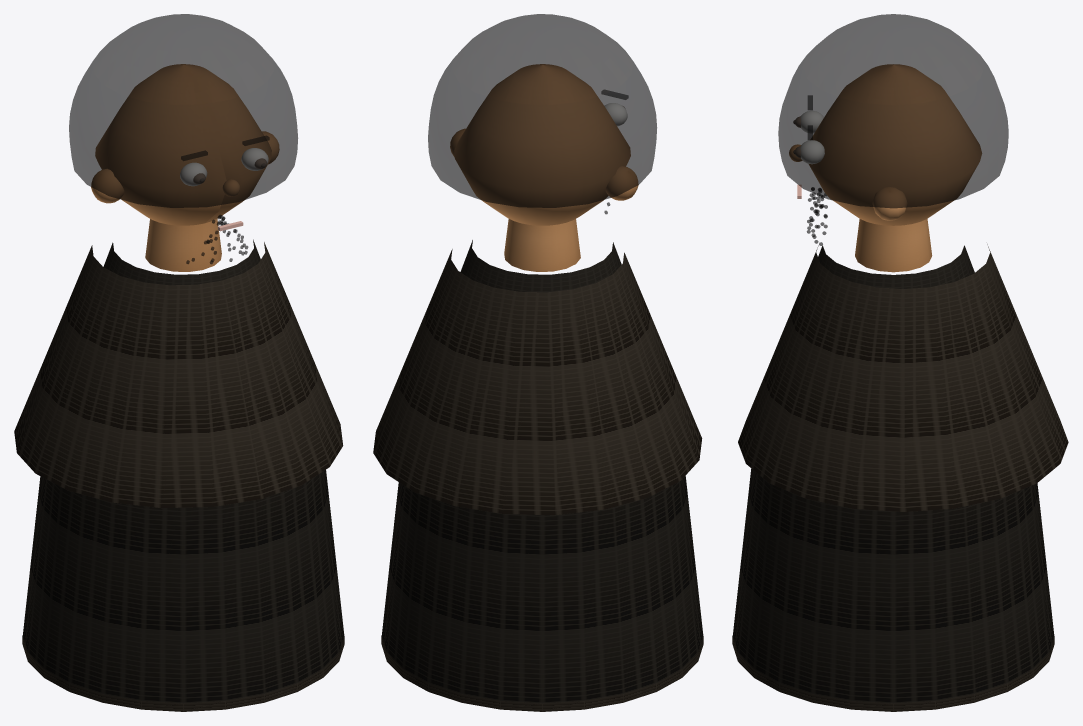
The model's file is jerusalem_local.glb.
3 renders of one model, left to right at view 1: azimuth 30°, elevation 25°; view 2: azimuth 150°, elevation 25°; view 3: azimuth 270°, elevation 25°, orthographic.
Visible parts, largest first — view 1: Character_jerusalem_local, head; view 2: Character_jerusalem_local, head; view 3: Character_jerusalem_local, head.
Boxes of the visible parts, x1,y1,x2,y2 form: Character_jerusalem_local: (14,14,344,711); head: (95,64,271,225); Character_jerusalem_local: (373,14,703,711); head: (454,64,630,225); Character_jerusalem_local: (732,14,1068,711); head: (809,64,981,225).
Size of the model in its own units: 0.871 by 1.8 by 0.8854.
Materials: 8 (4 with a texture image).
